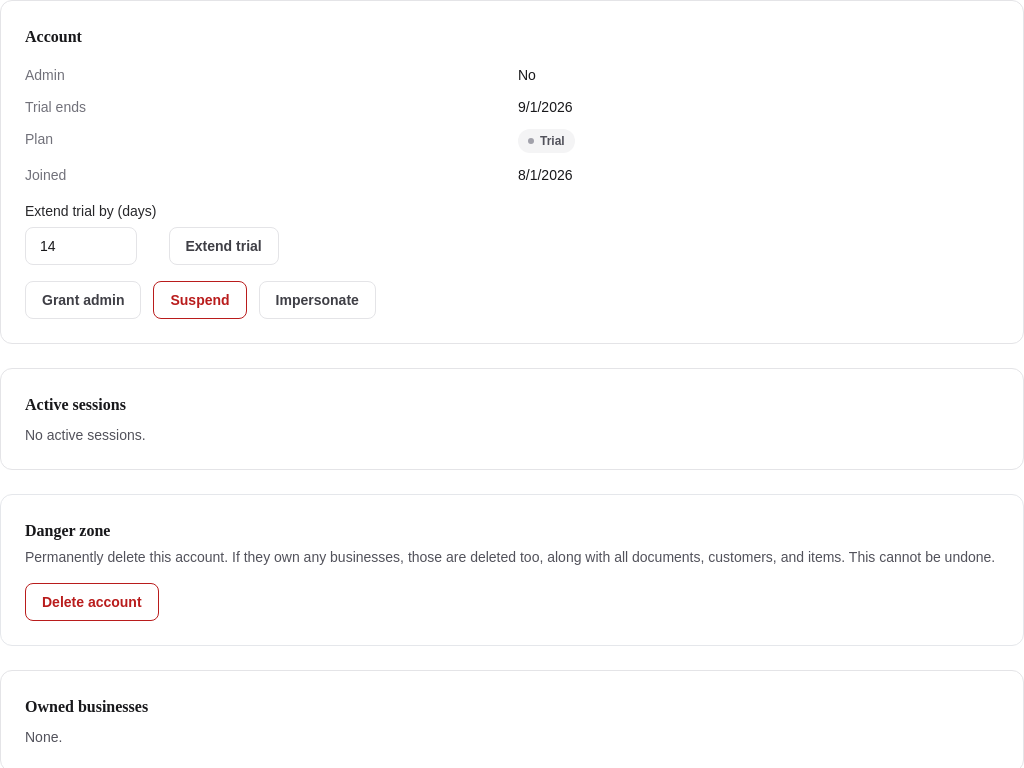
Test: AdminUserDetail › extends the trial when the button is clicked
The image size is (1024, 768).
Click the button "Extend trial". click: click(224, 246)
box: [168,227,279,265]
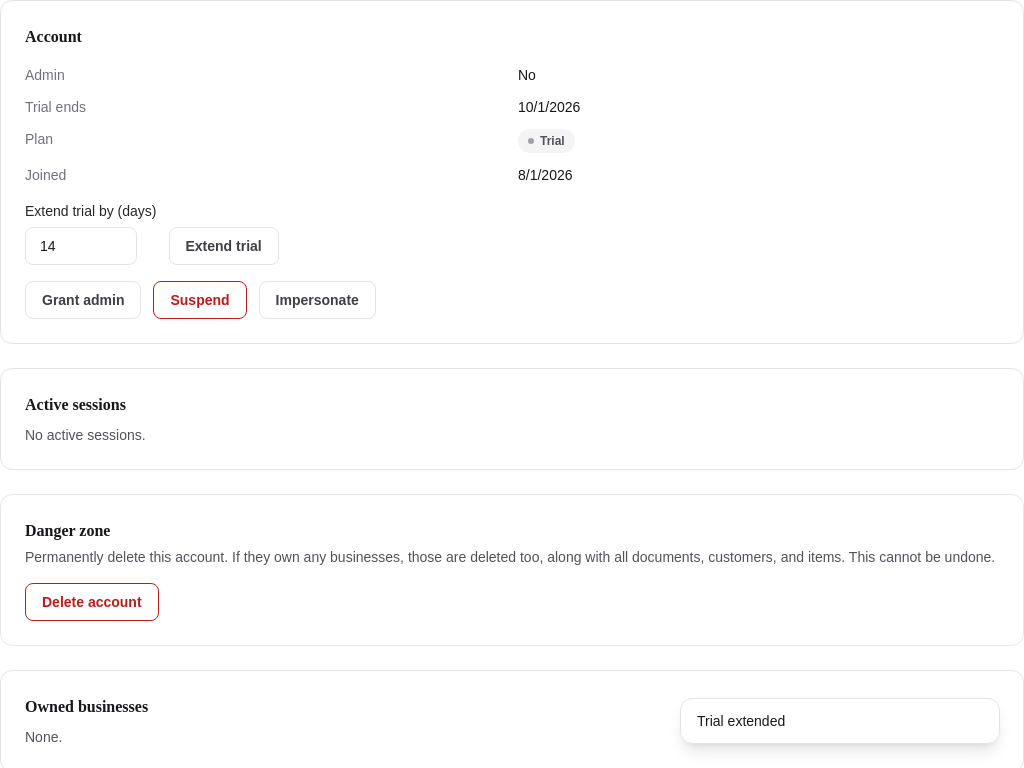
Check: the text "Trial extended" is shown, box [697,713,785,729]
